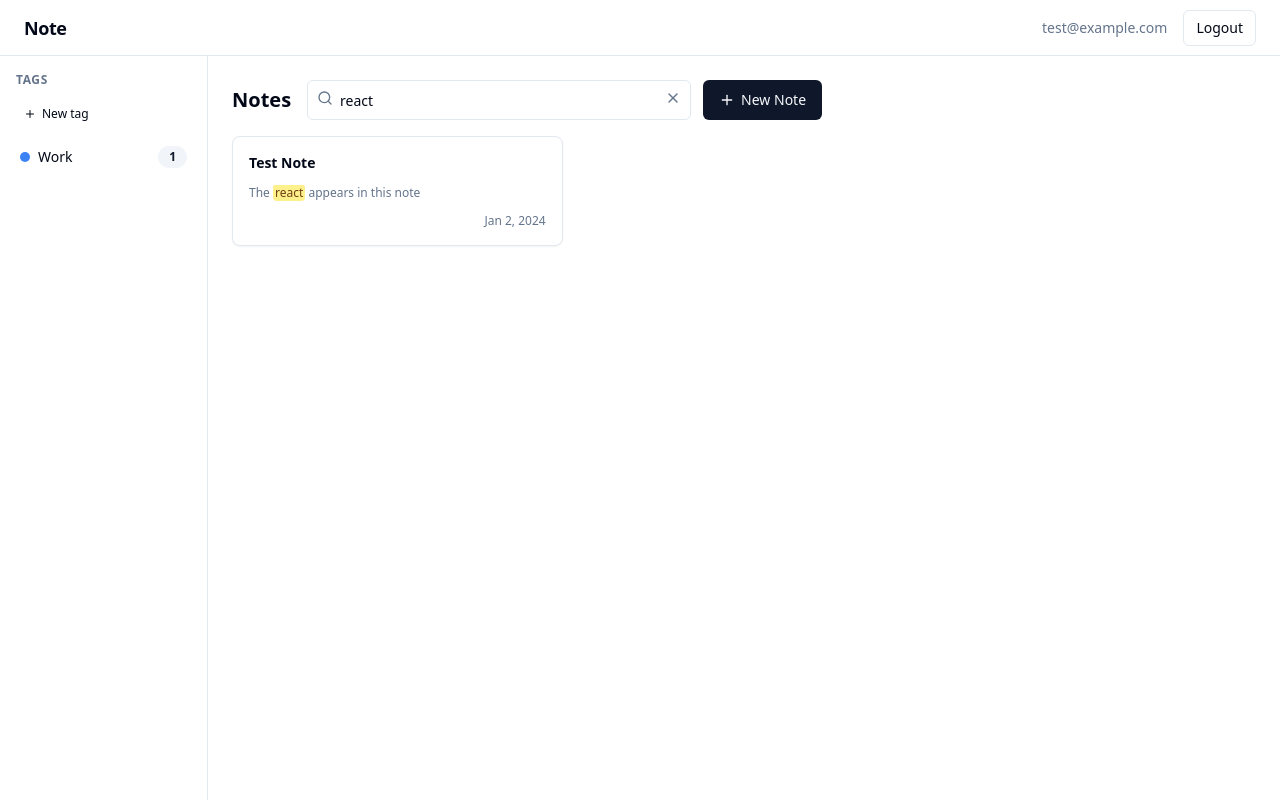
Test: NotesPage — Search (AB-1013) › AC-S8: clearing input removes ?q= from URL; NoteCard grid restored
Note: Clear the search using the X button
Click the button named "clear search" at (673,98), box [665,90,681,106]
Wait 500 ms
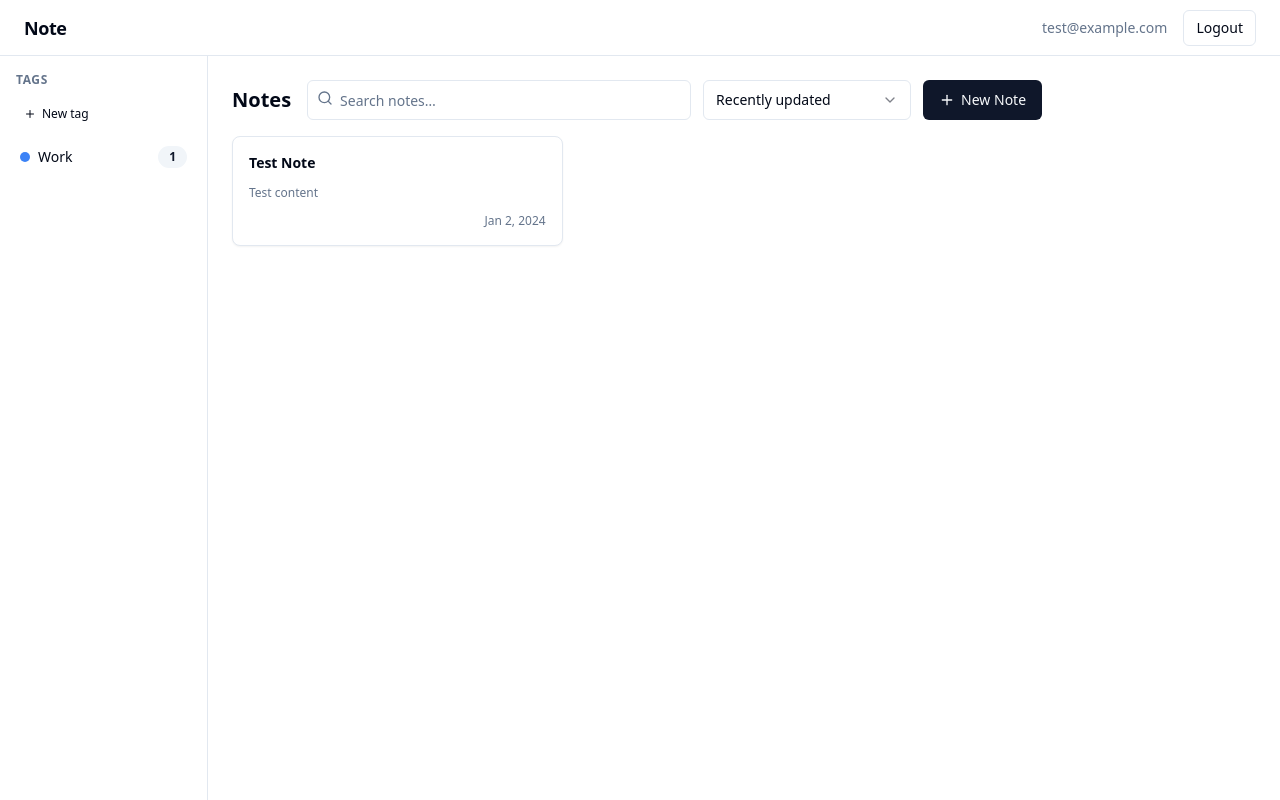
Check: the heading "Test Note" is shown, box [249,153,316,172]
Check: the dropdown named "sort notes" is shown, box [703,80,911,120]
